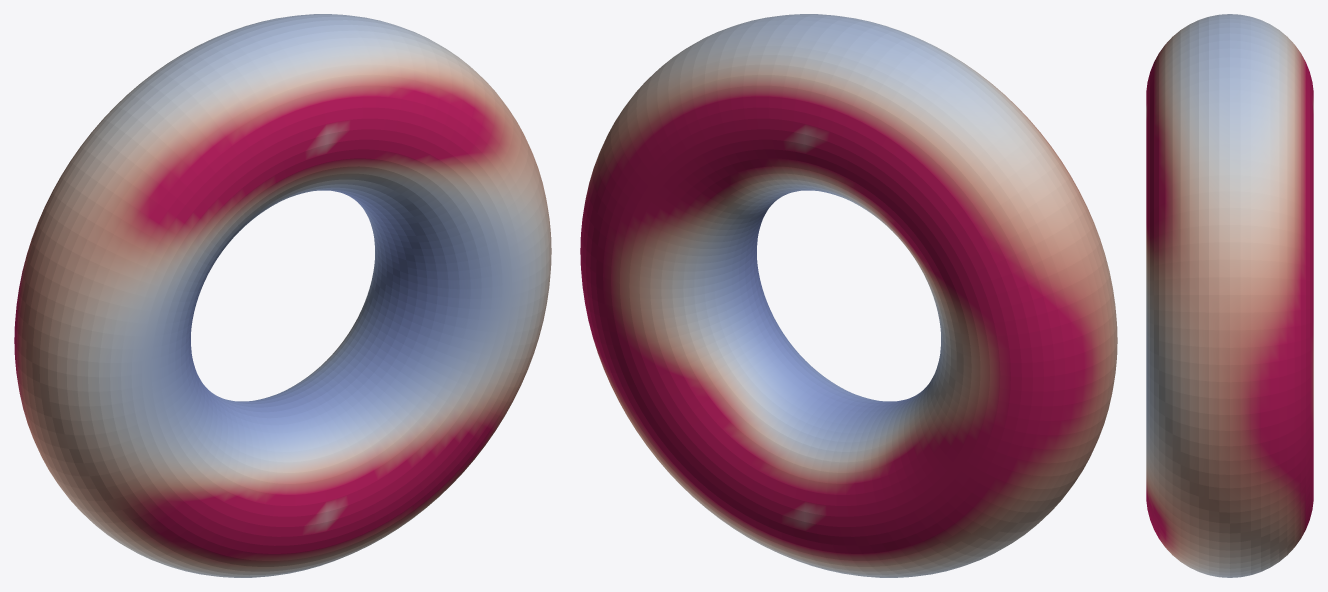
3 views of the same model, side by side, from view 1: azimuth 30°, elevation 25°; view 2: azimuth 150°, elevation 25°; view 3: azimuth 270°, elevation 25° (orthographic). The views are drawn at different scales.
Parts seen in each view (by area): view 1: world; view 2: world; view 3: world.
Boxes of the visible parts, x1,y1,x2,y2 form: world: [14, 14, 551, 577]; world: [580, 14, 1117, 577]; world: [1146, 14, 1313, 577].
Bounding box in the file's own units: 23.73 × 23.73 × 7.05.
